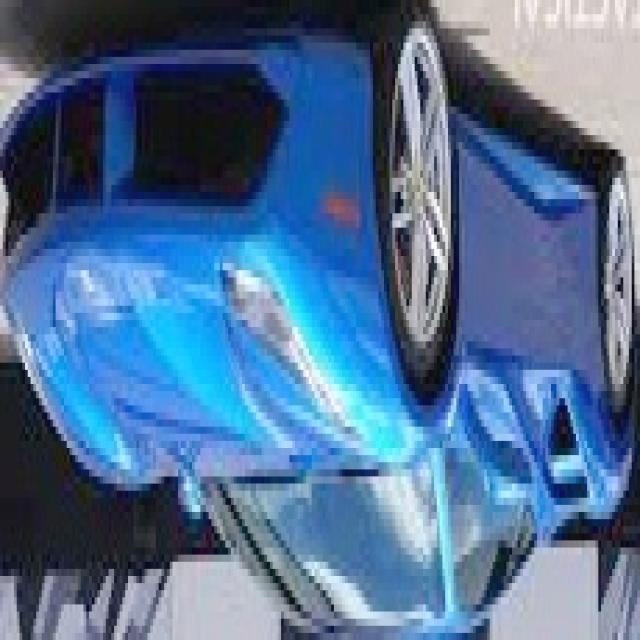blue: (0, 19, 636, 632)
